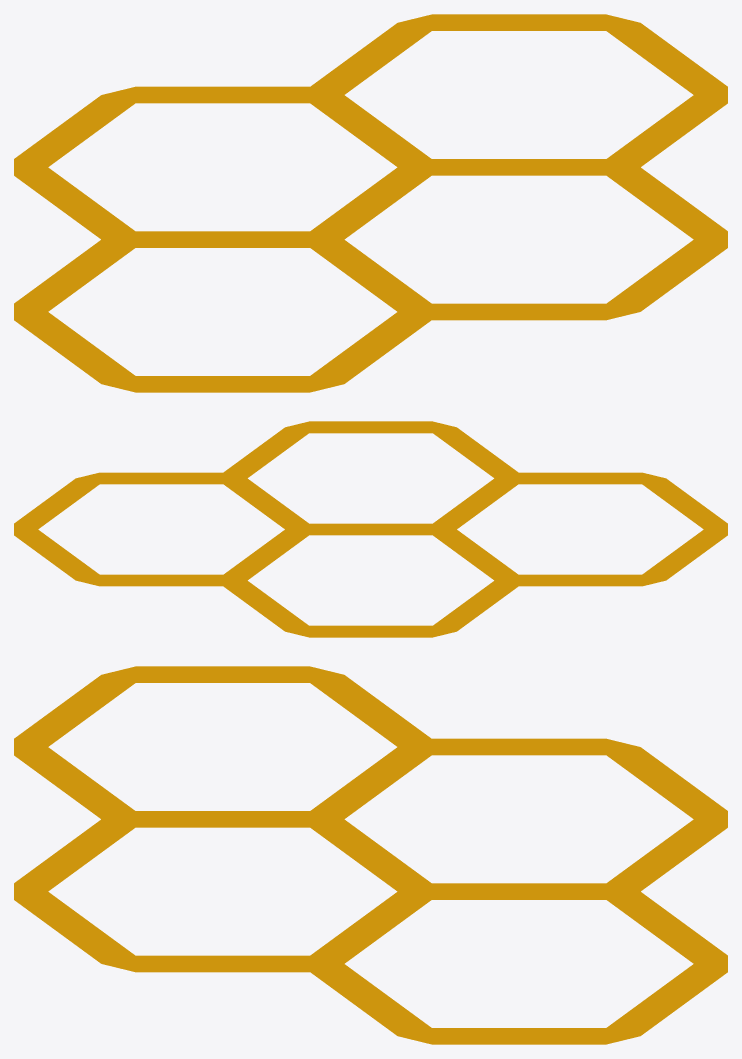
File: honeycomb.gltf
The picture shows the model from 3 angles, top to bottom: view 1: azimuth 30°, elevation 25°; view 2: azimuth 150°, elevation 25°; view 3: azimuth 270°, elevation 25°; orthographic projection. The views are drawn at different scales.
Parts seen in each view (by area): view 1: honeycomb; view 2: honeycomb; view 3: honeycomb.
Part boxes in pixels (box(x1,y1,x2,y2)): honeycomb: box(14, 14, 727, 392); honeycomb: box(14, 421, 727, 637); honeycomb: box(14, 666, 727, 1044).
Bounding box in the file's own units: 2.27 × 0 × 1.81.
